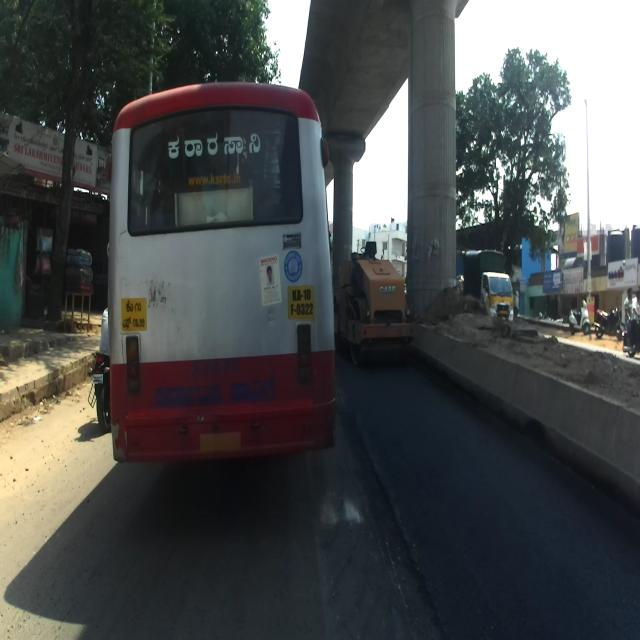bus ahead at: (110, 78, 342, 465)
truck ahead at: (350, 235, 416, 364)
